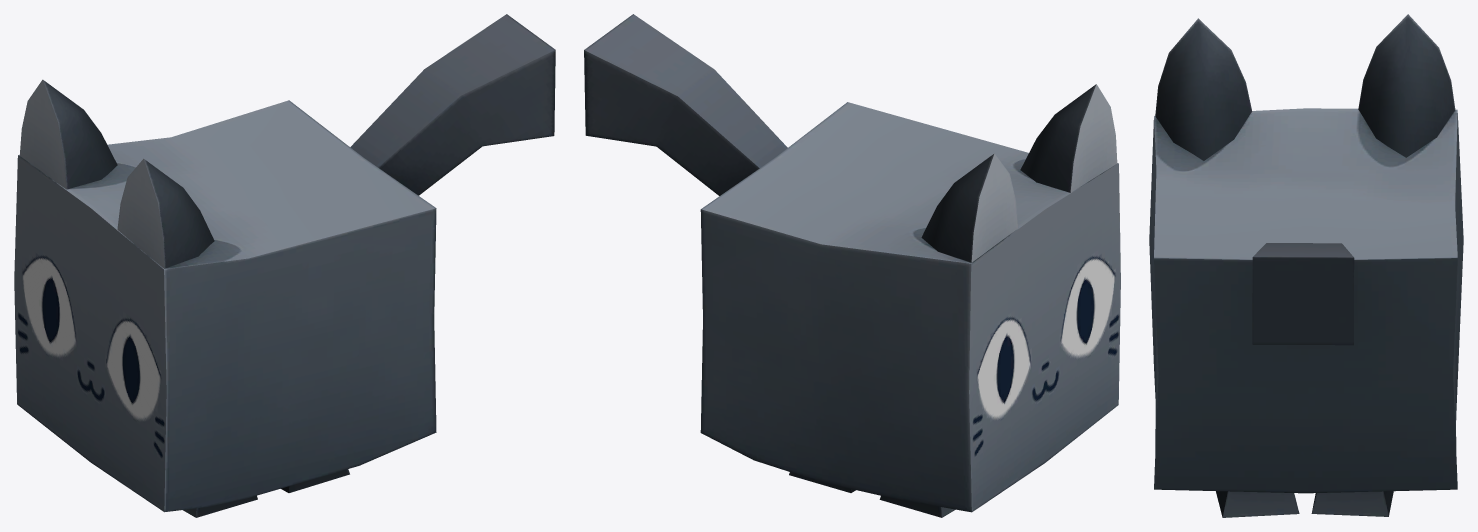
The picture shows the model from 3 angles, left to right: view 1: azimuth 30°, elevation 25°; view 2: azimuth 150°, elevation 25°; view 3: azimuth 270°, elevation 25°; orthographic projection. The views are drawn at different scales.
Visible parts, largest first — view 1: Pet1; view 2: Pet1; view 3: Pet1.
Part boxes in pixels (bbox=[...]): Pet1: bbox=[14, 14, 555, 517]; Pet1: bbox=[584, 14, 1120, 517]; Pet1: bbox=[1149, 14, 1463, 517].
Bounding box in the file's own units: 2.96 × 2.46 × 1.77.
1 material, 1 textured.
